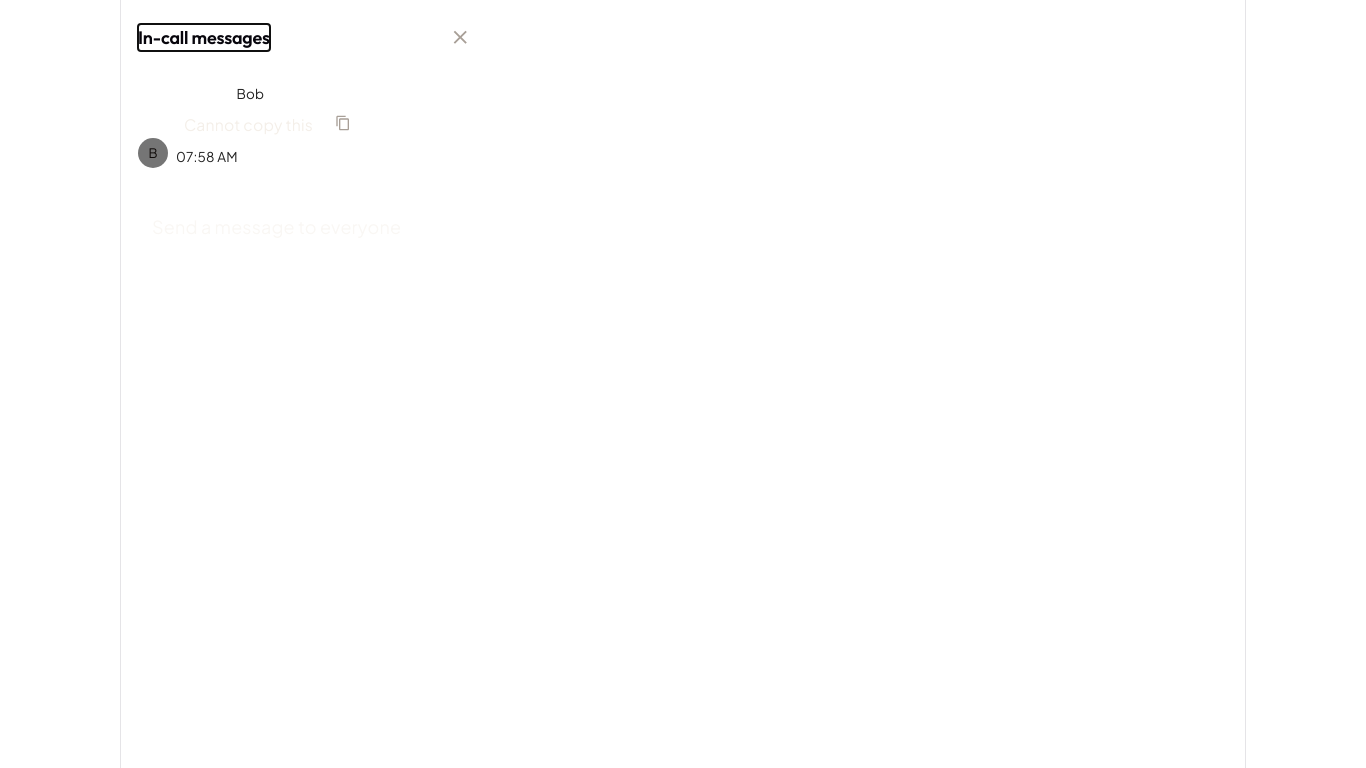
ChatPanel › copy message › shows a distinct failure state when clipboard write fails
The image size is (1366, 768).
What coordinates should you click on to do the following:
click the button named "Copy message from Bob"
I would click on:
 (343, 124)
Its box is [329, 110, 357, 138].
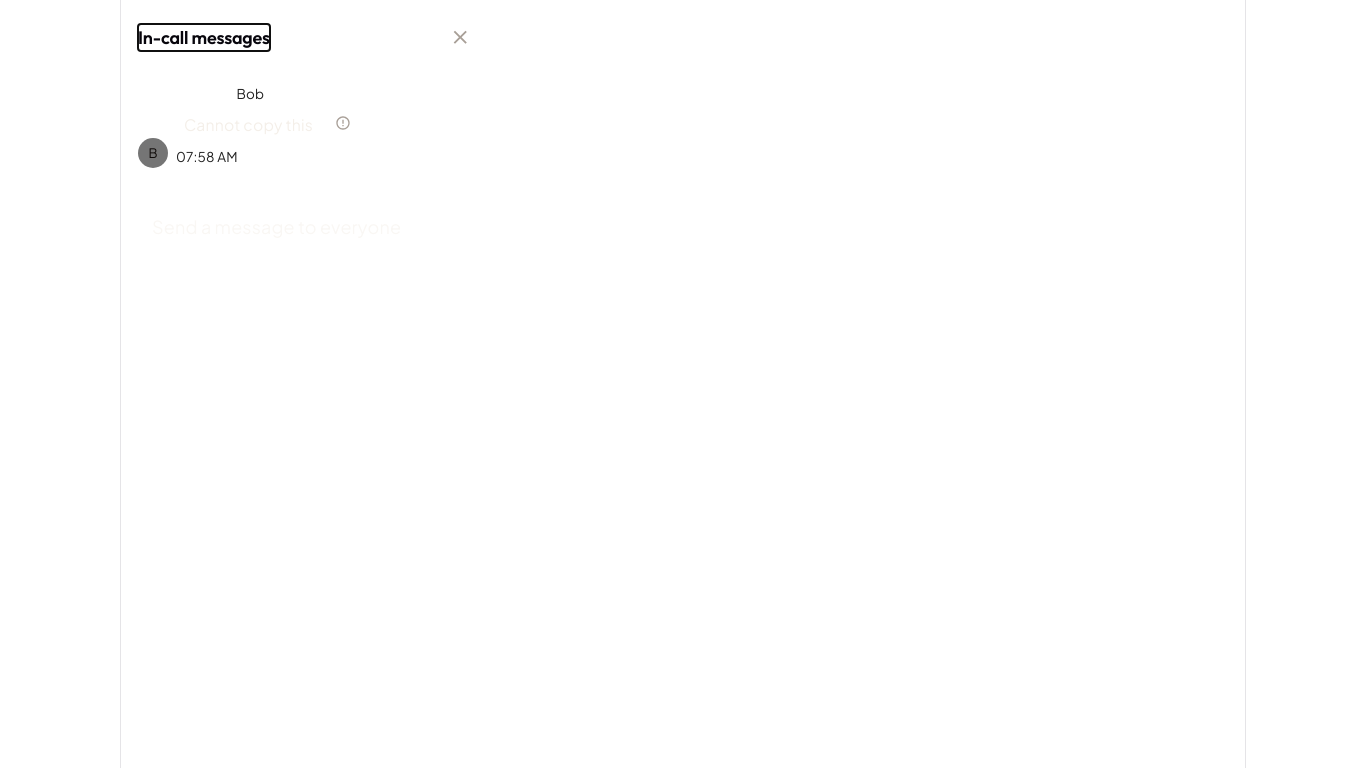
Result: the button named "Couldn't copy" is shown at [329, 110, 357, 138]
